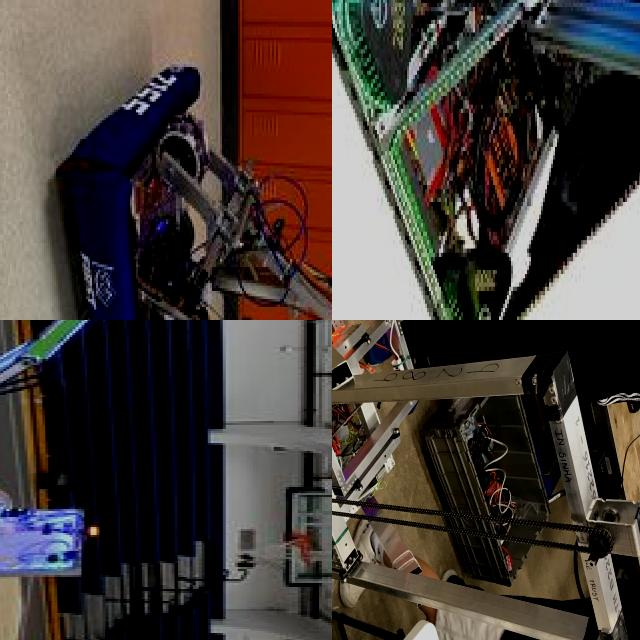FRC-Robots: (332, 0, 640, 320), (332, 320, 640, 640), (0, 320, 259, 633), (54, 62, 332, 320)
